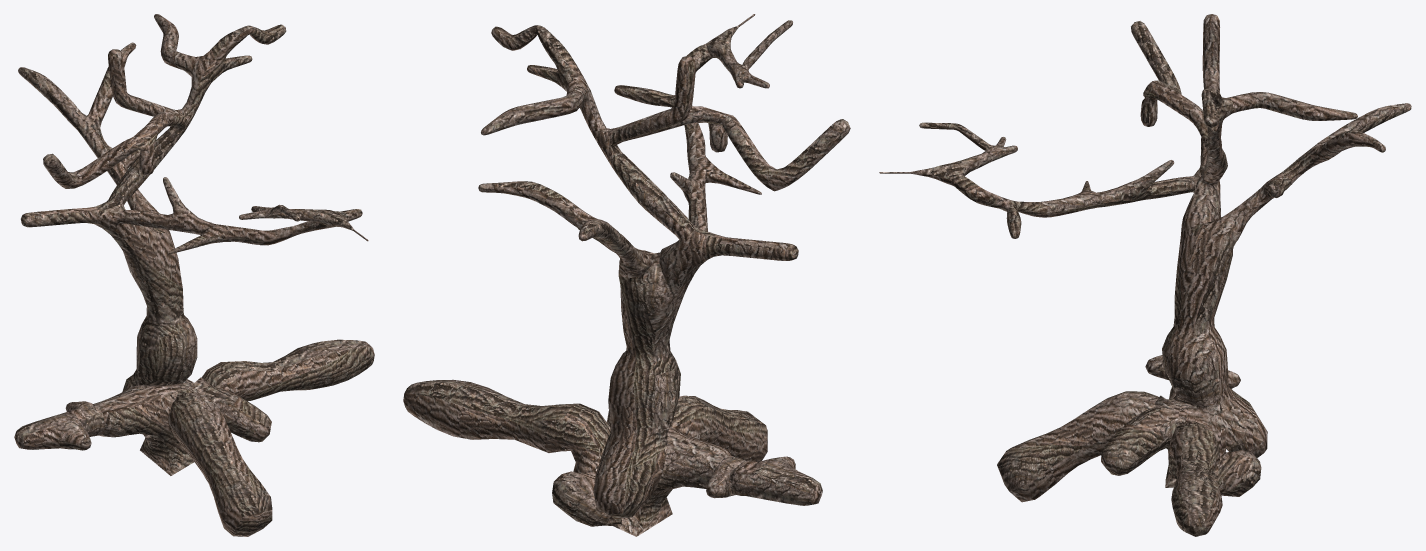
The model's file is arbol.fbx.
The picture shows the model from 3 angles, left to right: view 1: azimuth 30°, elevation 25°; view 2: azimuth 150°, elevation 25°; view 3: azimuth 270°, elevation 25°; orthographic projection. The views are drawn at different scales.
Visible parts, largest first — view 1: Plano; view 2: Plano; view 3: Plano.
Boxes of the visible parts, box(x1,y1,x2,y2) form: Plano: box(14, 14, 374, 536); Plano: box(403, 14, 850, 536); Plano: box(879, 14, 1411, 536).
Bounding box in the file's own units: 1190 × 1377 × 1438.
